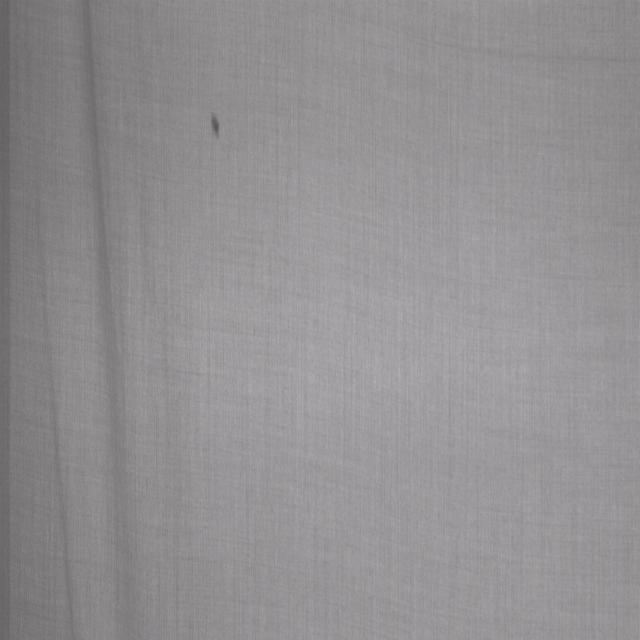dirty: (212, 115, 220, 138)
